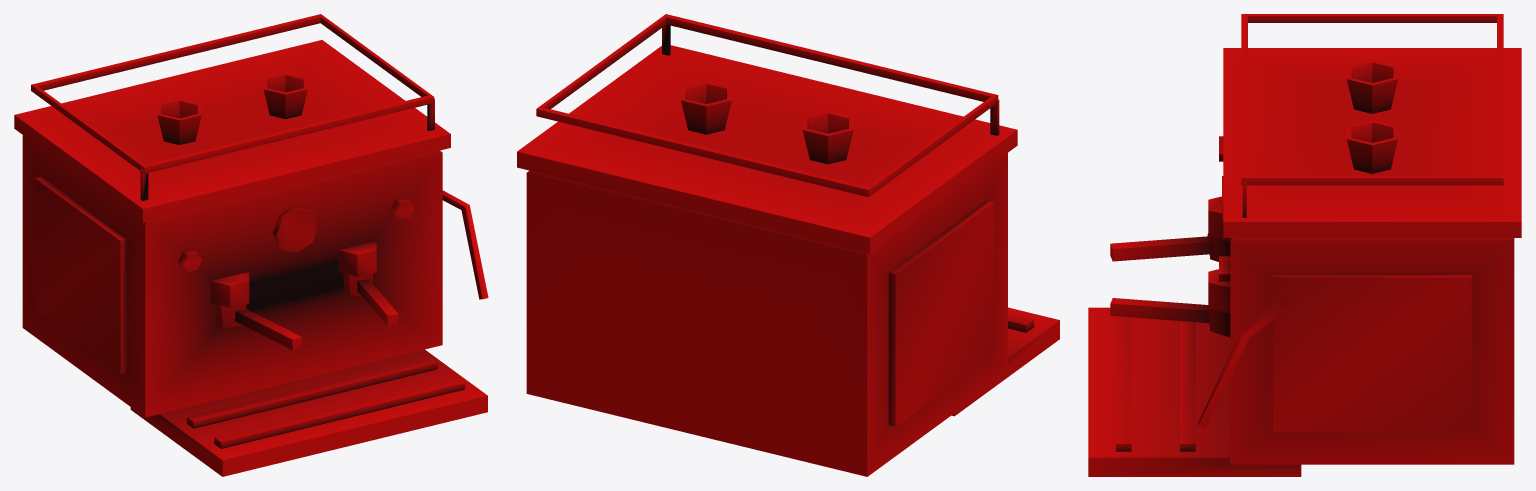
The model's file is CI_Cafe_EspressoMachine.glb.
The picture shows the model from 3 angles, left to right: view 1: azimuth 30°, elevation 25°; view 2: azimuth 150°, elevation 25°; view 3: azimuth 270°, elevation 25°; orthographic projection. The views are drawn at different scales.
Parts seen in each view (by area): view 1: CI_Cafe_EspressoMachine; view 2: CI_Cafe_EspressoMachine; view 3: CI_Cafe_EspressoMachine.
Part boxes in pixels (left/top/right/bottom): CI_Cafe_EspressoMachine: left=14, top=14, right=488, bottom=476; CI_Cafe_EspressoMachine: left=517, top=14, right=1059, bottom=476; CI_Cafe_EspressoMachine: left=1088, top=14, right=1521, bottom=476.
Bounding box in the file's own units: 0.6339 × 0.4757 × 0.61.
